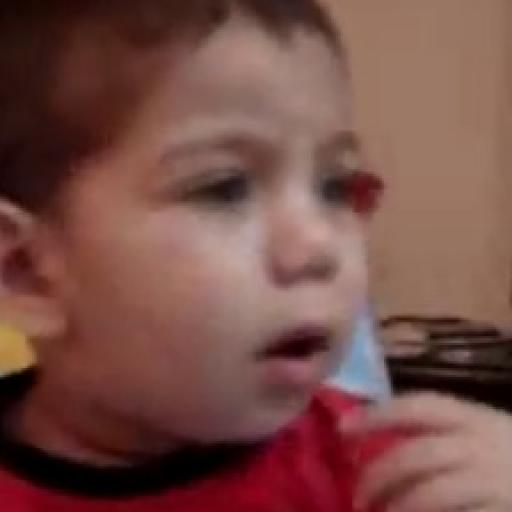Autism: (38, 38, 511, 512)
